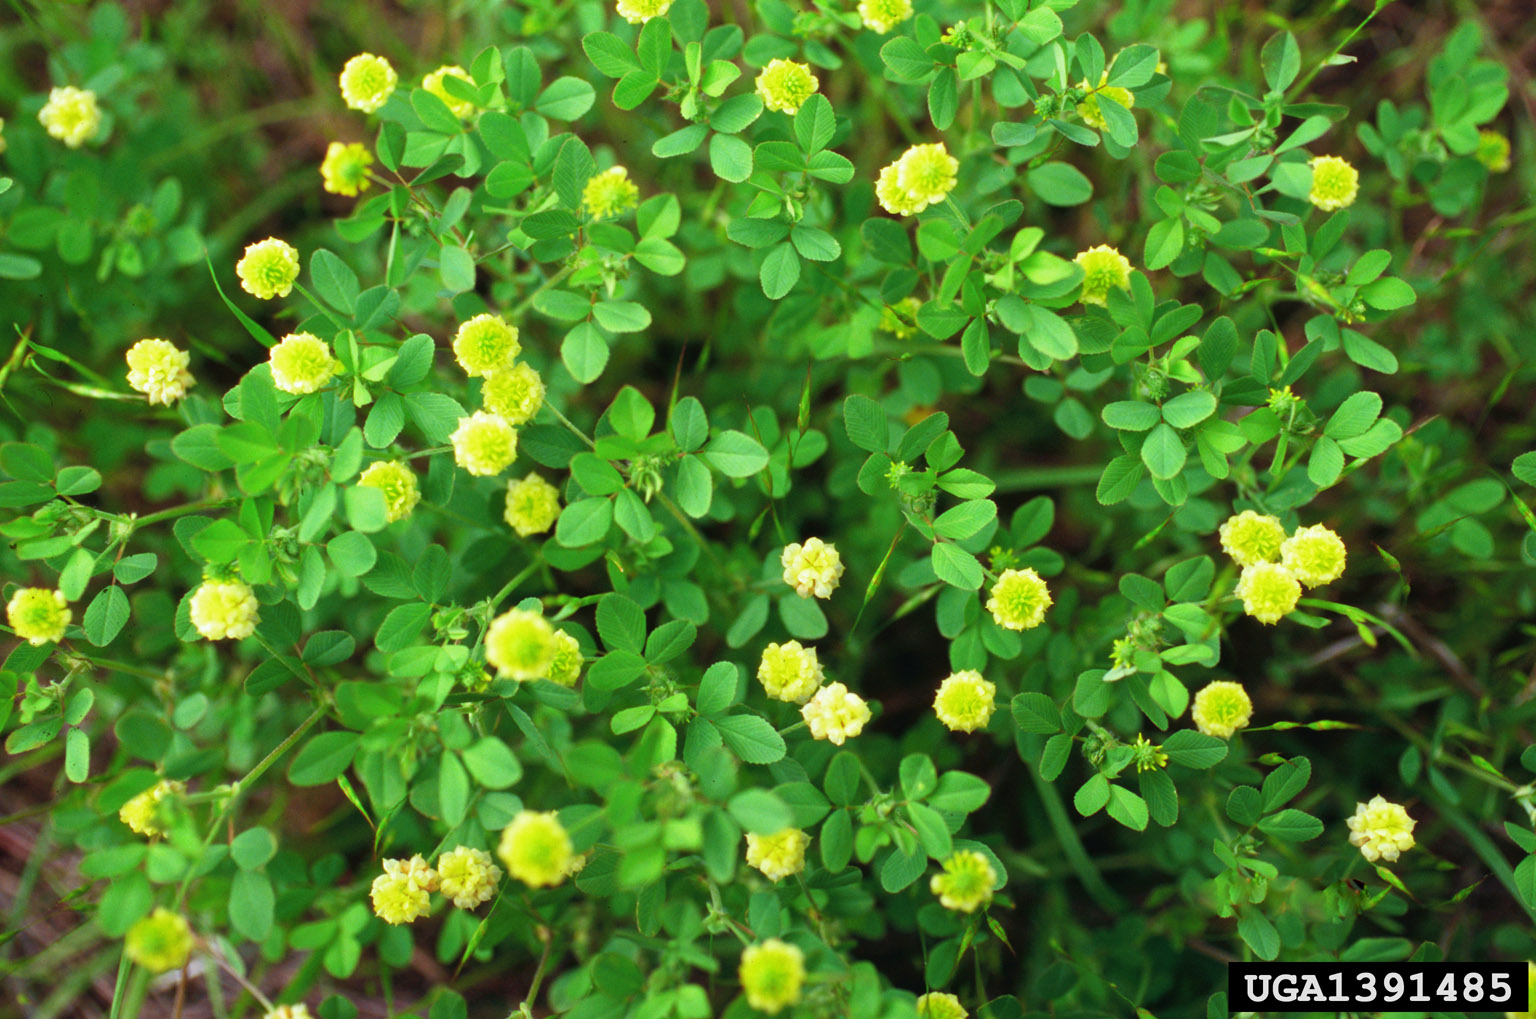clover: (35, 17, 1406, 933)
